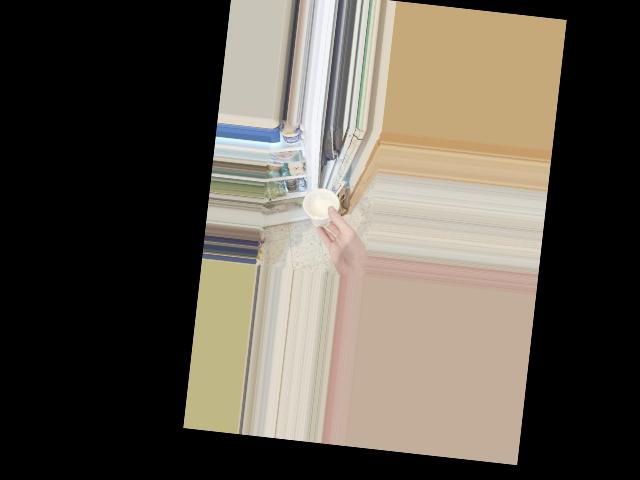cotage: (306, 187, 344, 231)
